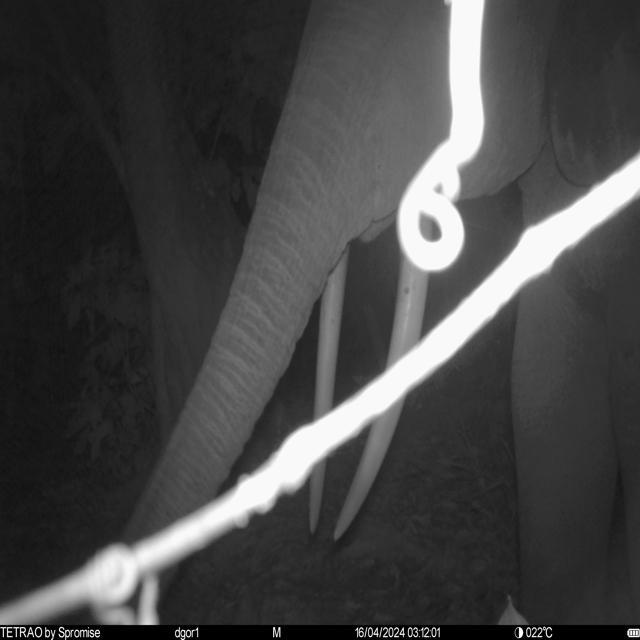ear: (549, 0, 640, 188)
elephant: (121, 0, 640, 626)
tusk: (335, 196, 436, 544), (307, 244, 348, 538)
